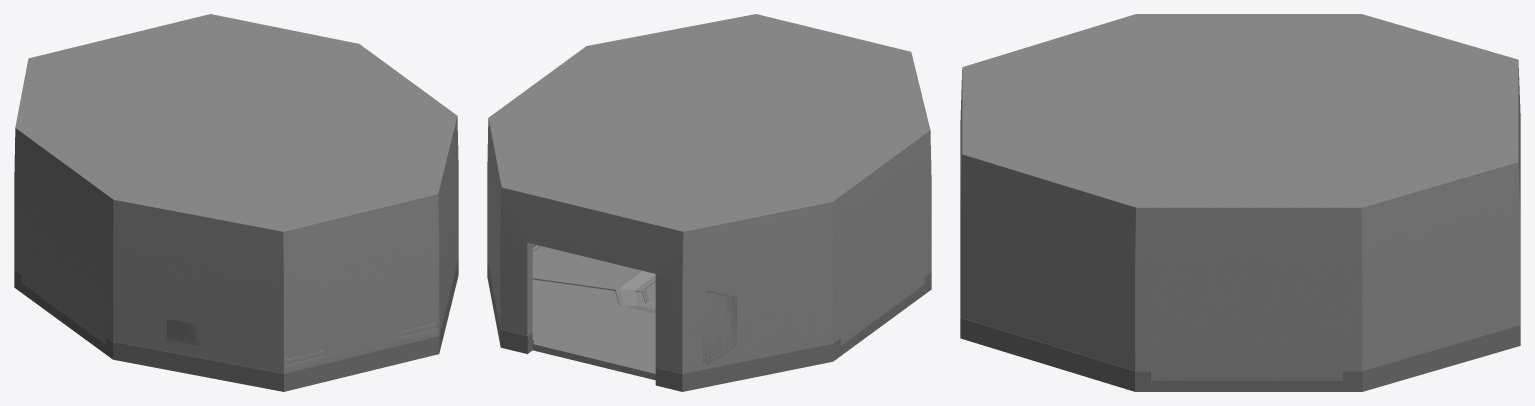
The model's file is Ship_Room_Medbay_001_V002.fbx.
3 renders of one model, left to right at view 1: azimuth 30°, elevation 25°; view 2: azimuth 150°, elevation 25°; view 3: azimuth 270°, elevation 25°, orthographic. The views are drawn at different scales.
Parts seen in each view (by area): view 1: Ship_Room_Medbay_WallsCeiling_002, Ship_Room_Medbay_Skirting_002, Ship_Room_Medbay_WallPanels_001, Ship_Room_Medbay_Tables_001; view 2: Ship_Room_Medbay_WallsCeiling_002, Ship_Room_Medbay_Floor_002, Ship_Room_Medbay_Skirting_002, Ship_Room_Medbay_WallPanels_Large_001; view 3: Ship_Room_Medbay_WallsCeiling_002, Ship_Room_Medbay_Skirting_002.
Part boxes in pixels (x1,y1,x2,y2): Ship_Room_Medbay_WallsCeiling_002: (14,14,458,373); Ship_Room_Medbay_Skirting_002: (14,258,458,391); Ship_Room_Medbay_WallPanels_001: (167,319,199,346); Ship_Room_Medbay_Tables_001: (285,323,437,364); Ship_Room_Medbay_WallsCeiling_002: (487,14,931,373); Ship_Room_Medbay_Floor_002: (532,245,655,380); Ship_Room_Medbay_Skirting_002: (487,244,931,391); Ship_Room_Medbay_WallPanels_Large_001: (702,290,736,365); Ship_Room_Medbay_WallsCeiling_002: (960,14,1520,380); Ship_Room_Medbay_Skirting_002: (960,317,1520,391).
Bounding box in the file's own units: 1519 × 671 × 1849.
